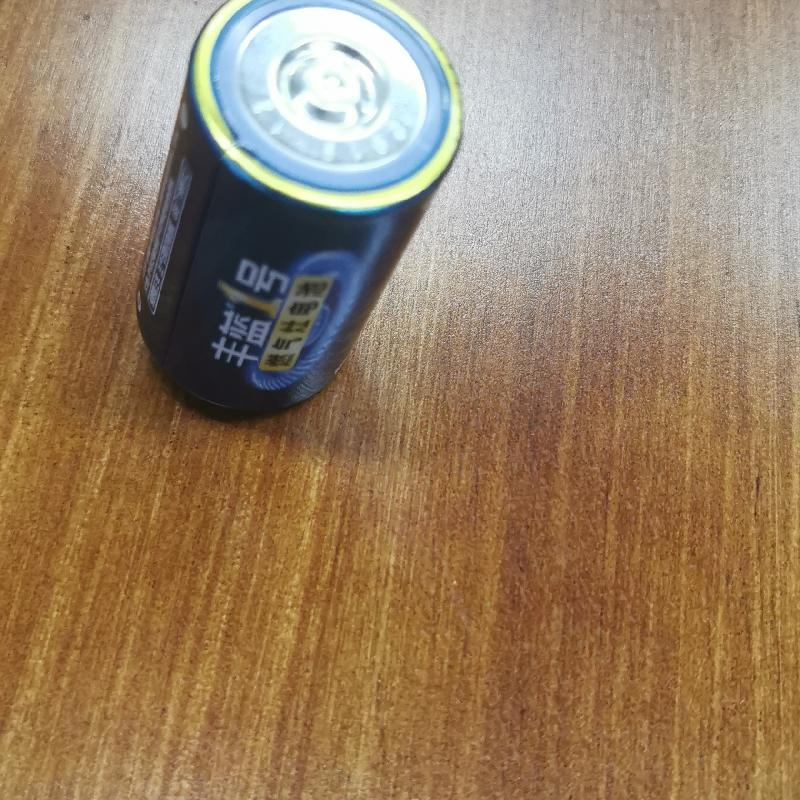battery: (131, 0, 464, 427)
